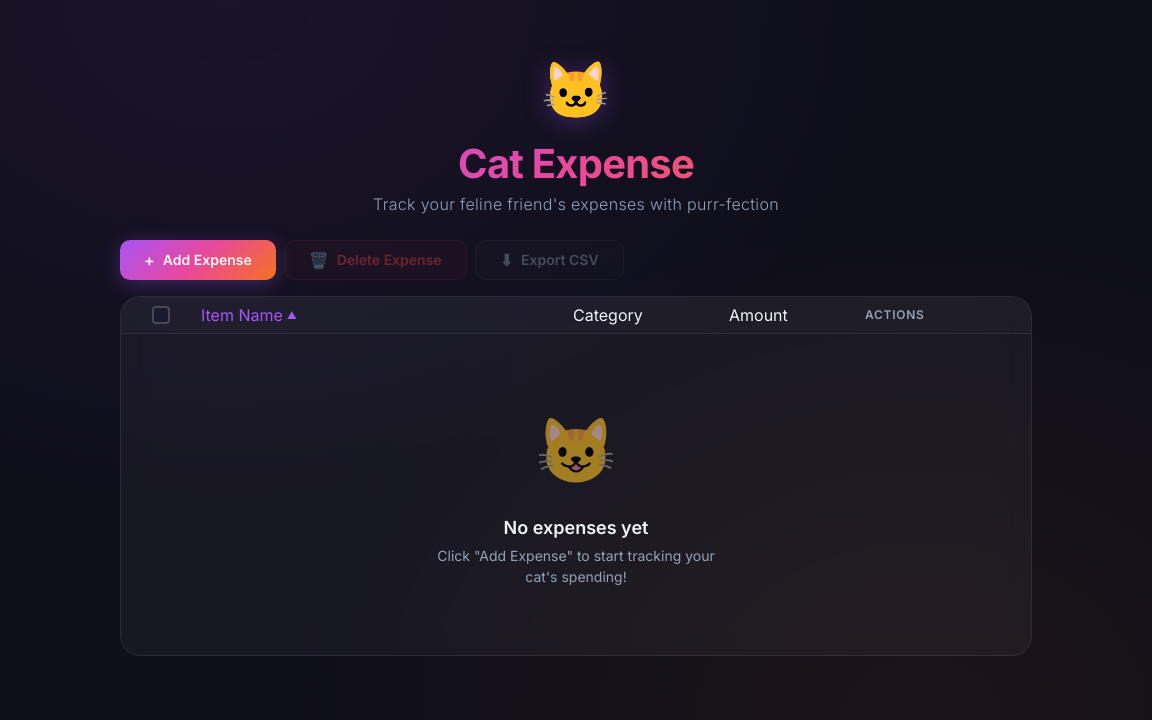
+page.svelte › opens the add expense dialog when Add Expense is clicked
Click the button "+ Add Expense" at (198, 260), box [120, 240, 276, 280]
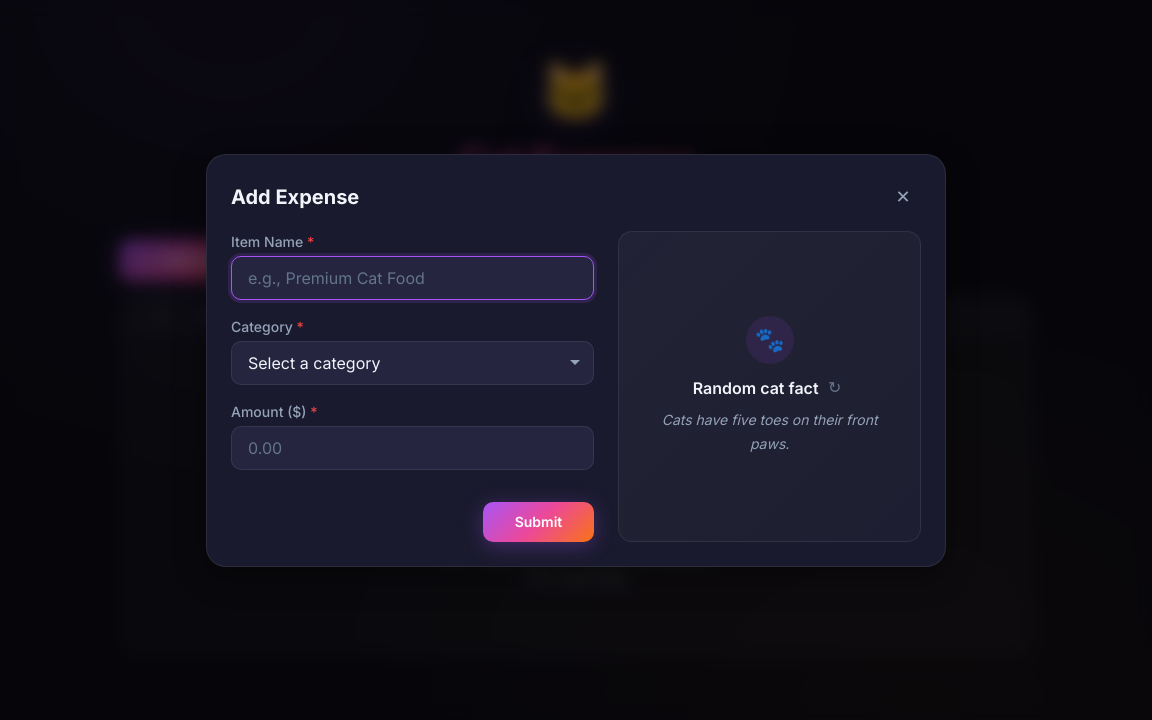
expect the dialog "Add Expense" is shown: met, box [206, 154, 946, 566]
expect the field labelled "Item Name" is shown: met, box [231, 256, 594, 300]
